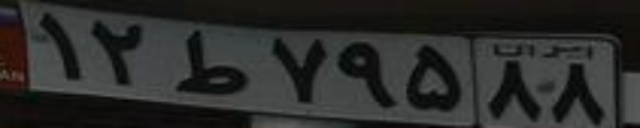1: (37, 10, 82, 82)
2: (88, 18, 141, 85)
5: (402, 44, 465, 111)
7: (269, 35, 327, 104)
8: (546, 60, 608, 125), (481, 57, 541, 121)
9: (335, 38, 397, 109)
taa: (175, 31, 251, 95)
